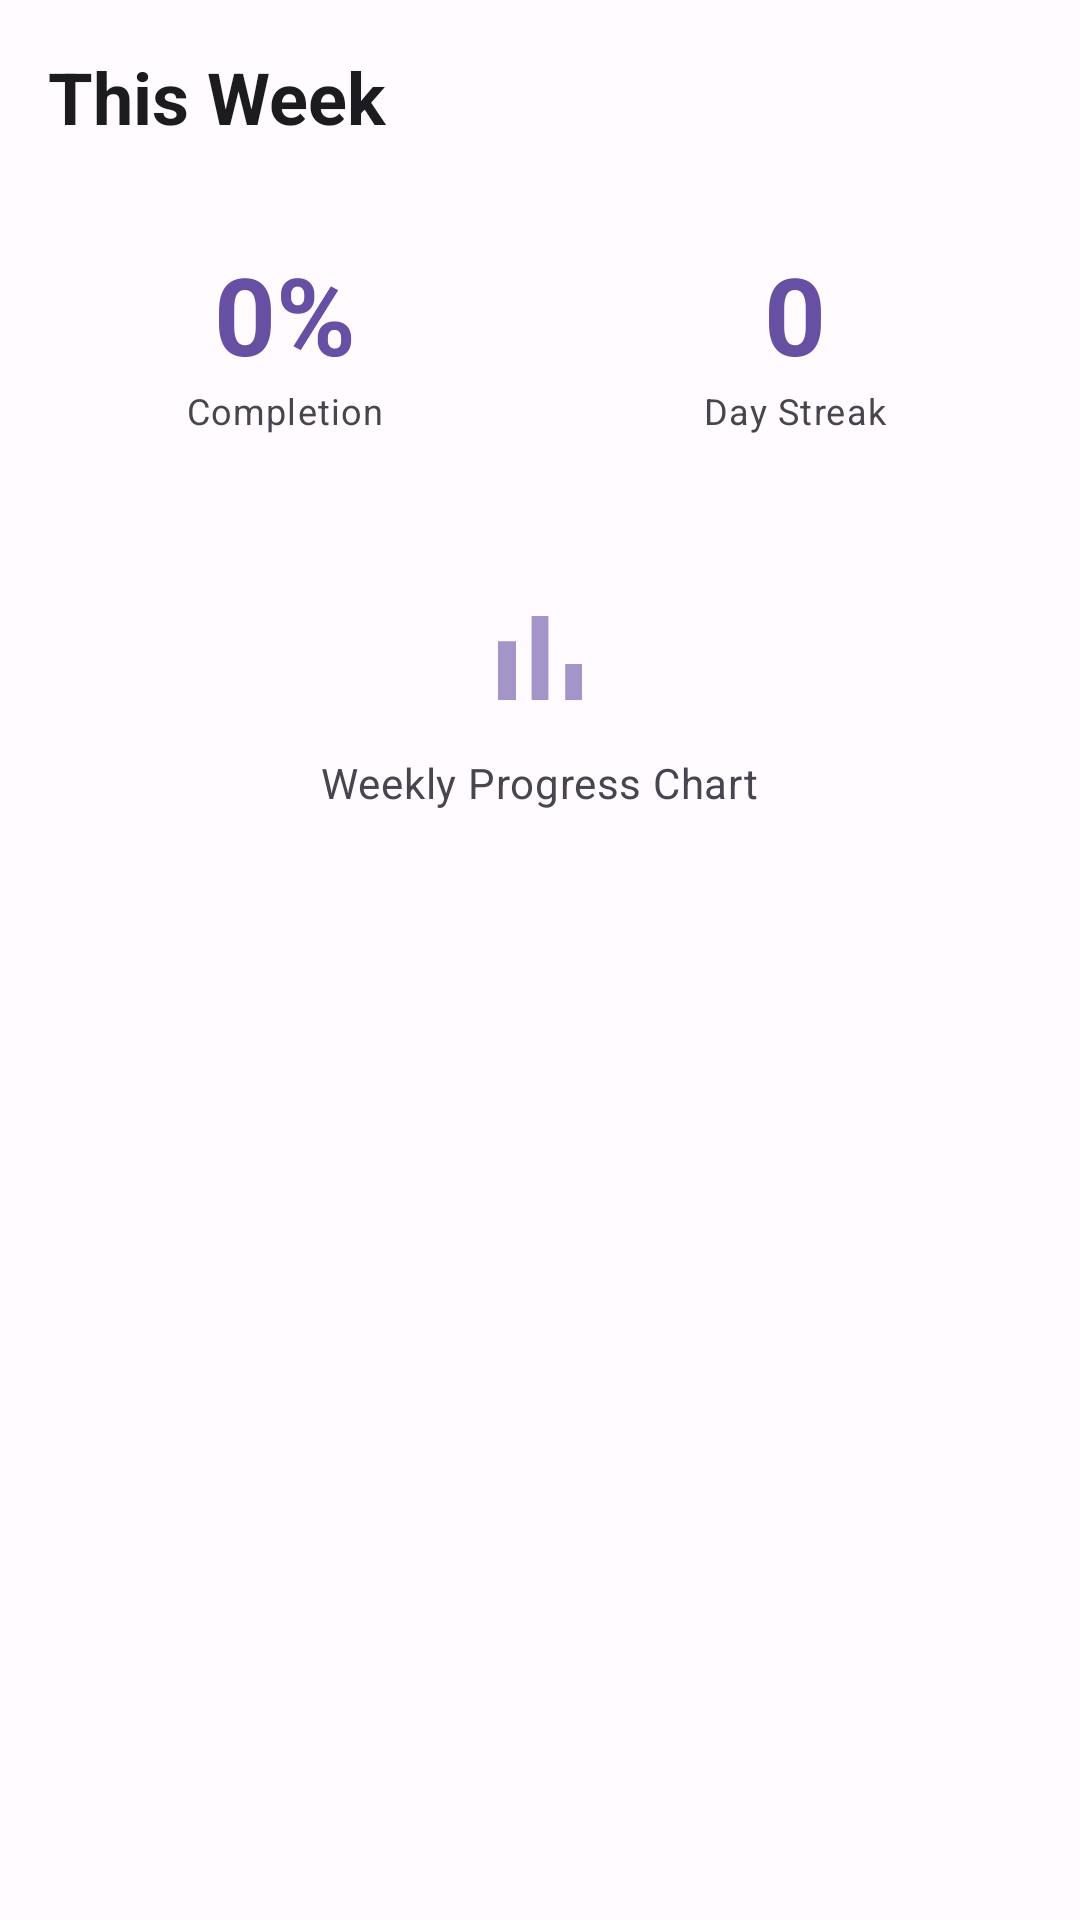

Named icons in this screenshot (1080×1920) and their centers, point (x, y):
bar chart: point (540, 658)
